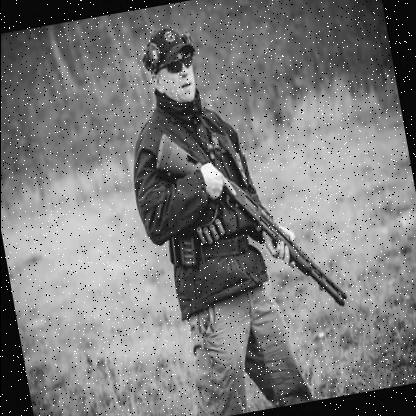rifle: (153, 109, 350, 338)
